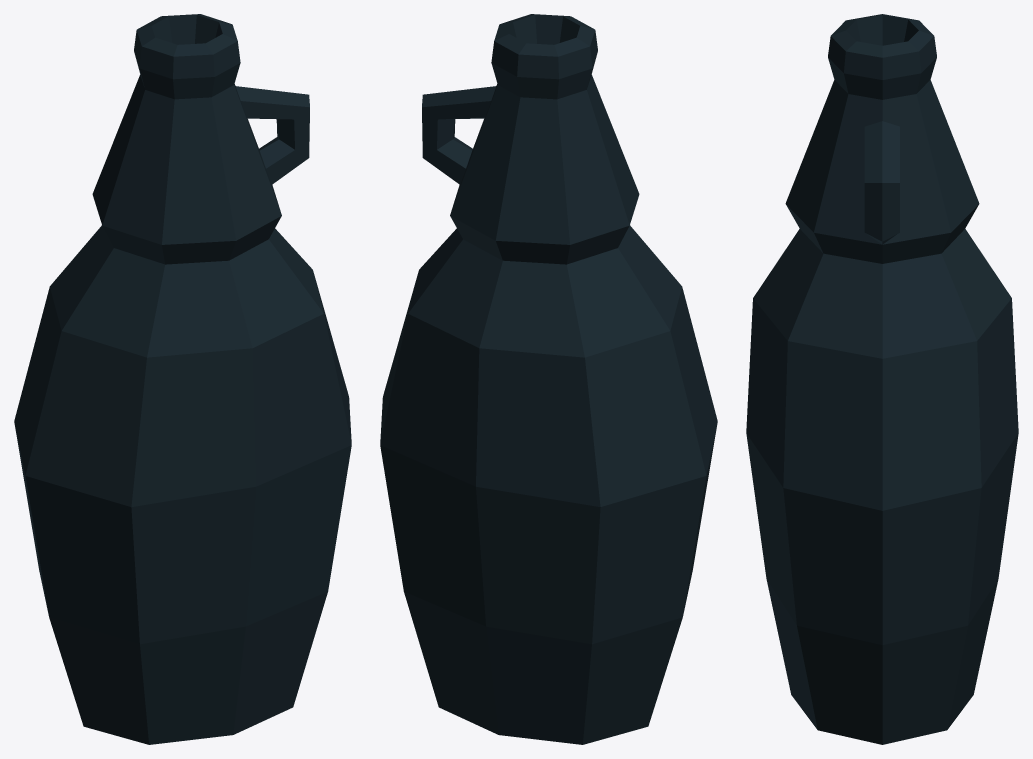
The model's file is jar-syrup-empty.glb.
3 views of the same model, side by side, from view 1: azimuth 30°, elevation 25°; view 2: azimuth 150°, elevation 25°; view 3: azimuth 270°, elevation 25° (orthographic).
Visible parts, largest first — view 1: jar-syrup-empty; view 2: jar-syrup-empty; view 3: jar-syrup-empty.
Part boxes in pixels (bbox=[...]): jar-syrup-empty: bbox=[14, 14, 351, 744]; jar-syrup-empty: bbox=[380, 14, 717, 744]; jar-syrup-empty: bbox=[746, 14, 1018, 744].
Size of the model in its own units: 0.1062 by 0.2131 by 0.0782.
1 material, 1 textured.
